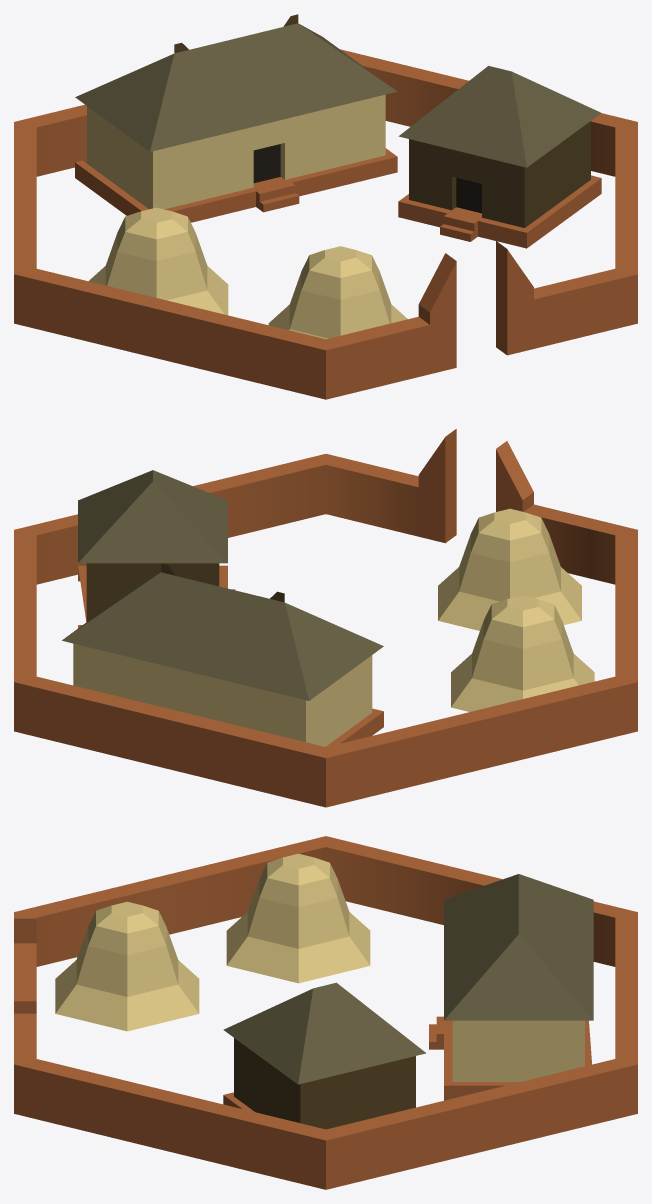
Rendered from MJ_Building_Granary.fbx.
The picture shows the model from 3 angles, top to bottom: view 1: azimuth 30°, elevation 25°; view 2: azimuth 150°, elevation 25°; view 3: azimuth 270°, elevation 25°; orthographic projection.
Parts seen in each view (by area): view 1: Model, Group1, Group2; view 2: Model, Group1, Group2; view 3: Model, Group1, Group2.
Boxes of the visible parts, <box> form: Model: <box>14,49,637,399</box>; Group1: <box>75,14,397,222</box>; Group2: <box>398,66,601,248</box>; Model: <box>14,429,637,807</box>; Group1: <box>62,563,383,746</box>; Group2: <box>78,470,235,628</box>; Model: <box>14,836,637,1189</box>; Group1: <box>429,874,593,1100</box>; Group2: <box>223,982,425,1129</box>.
Bounding box in the file's own units: 5.82 × 1.3 × 5.04.
